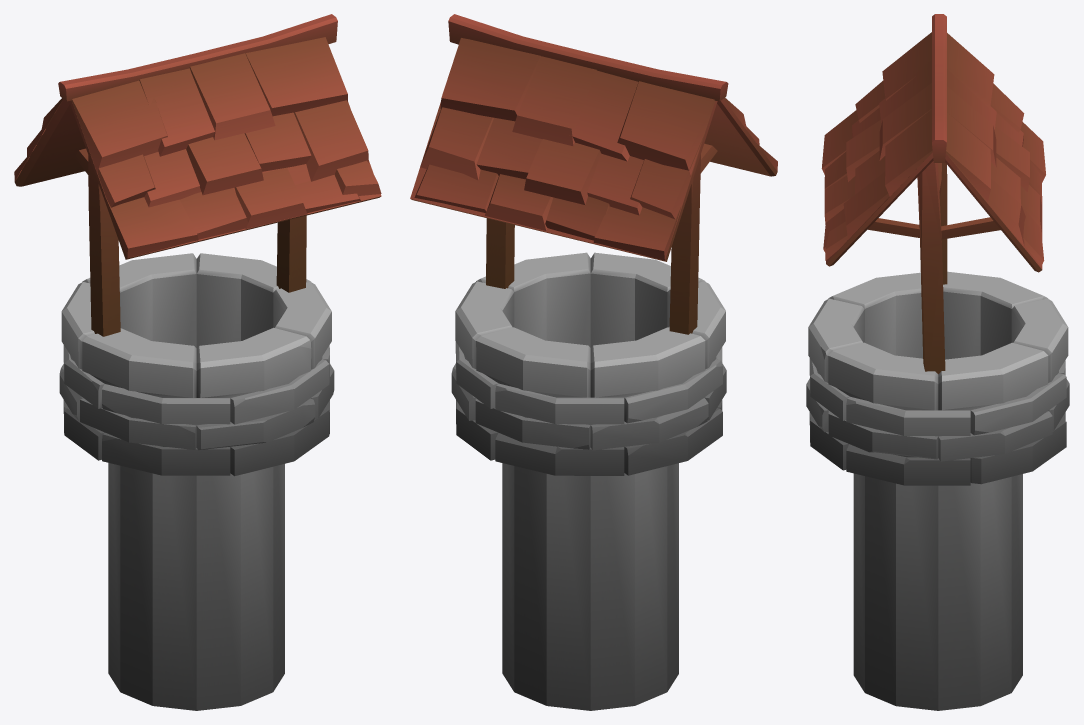
File: Well_RoofWood.fbx
3 views of the same model, side by side, from view 1: azimuth 30°, elevation 25°; view 2: azimuth 150°, elevation 25°; view 3: azimuth 270°, elevation 25° (orthographic). The views are drawn at different scales.
Visible parts, largest first — view 1: Well_RoofWood; view 2: Well_RoofWood; view 3: Well_RoofWood.
Boxes of the visible parts, left/top/right/bottom form: Well_RoofWood: left=14, top=14, right=381, bottom=710; Well_RoofWood: left=410, top=14, right=777, bottom=710; Well_RoofWood: left=806, top=14, right=1069, bottom=710.
Bounding box in the file's own units: 3.57 × 7.84 × 3.12.
